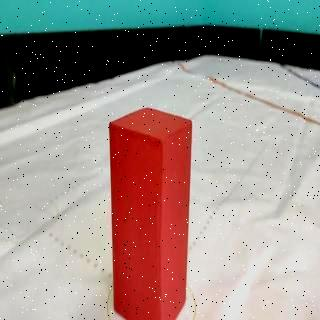redbox: (108, 106, 193, 320)
